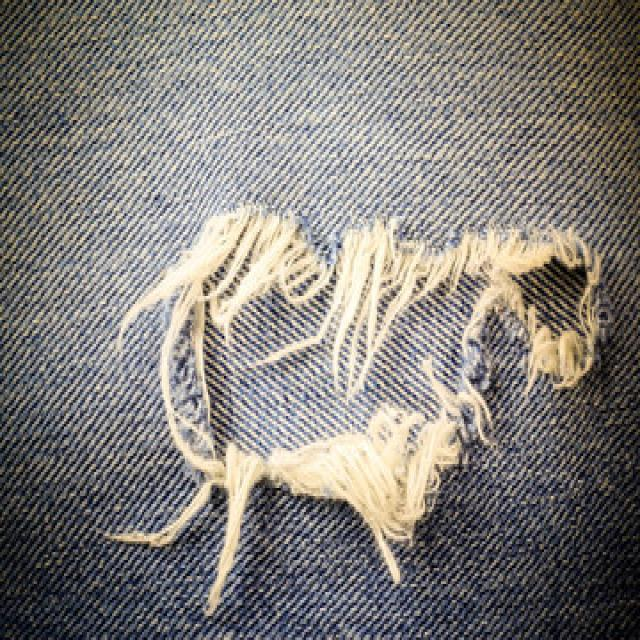Hole: (112, 207, 602, 616)
